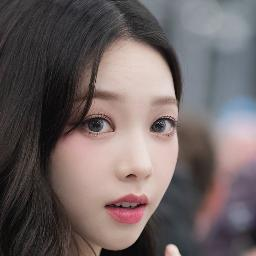face: (66, 54, 176, 244)
